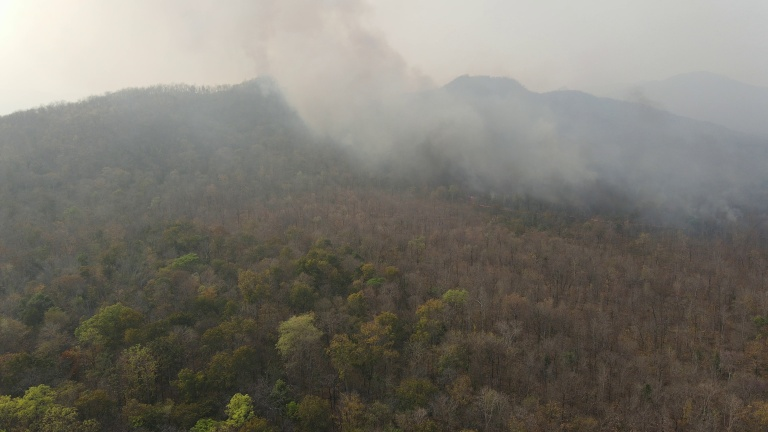smoke: (181, 3, 610, 213), (607, 59, 768, 224), (249, 44, 274, 105)
